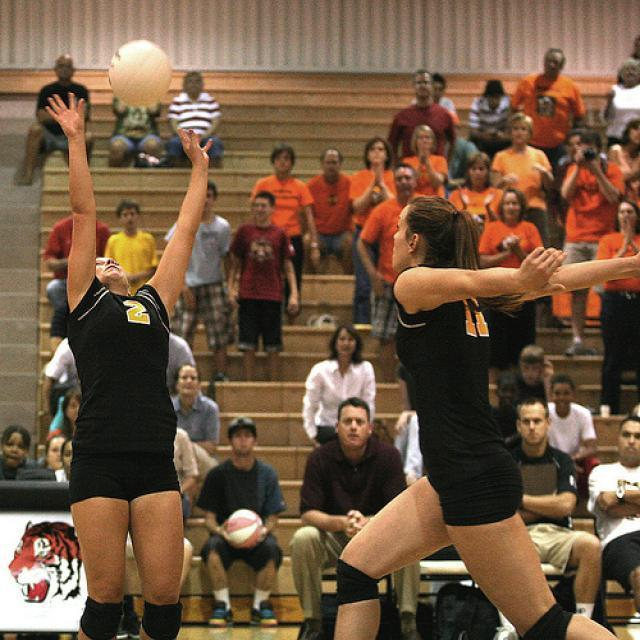volleyball: (107, 40, 171, 106)
